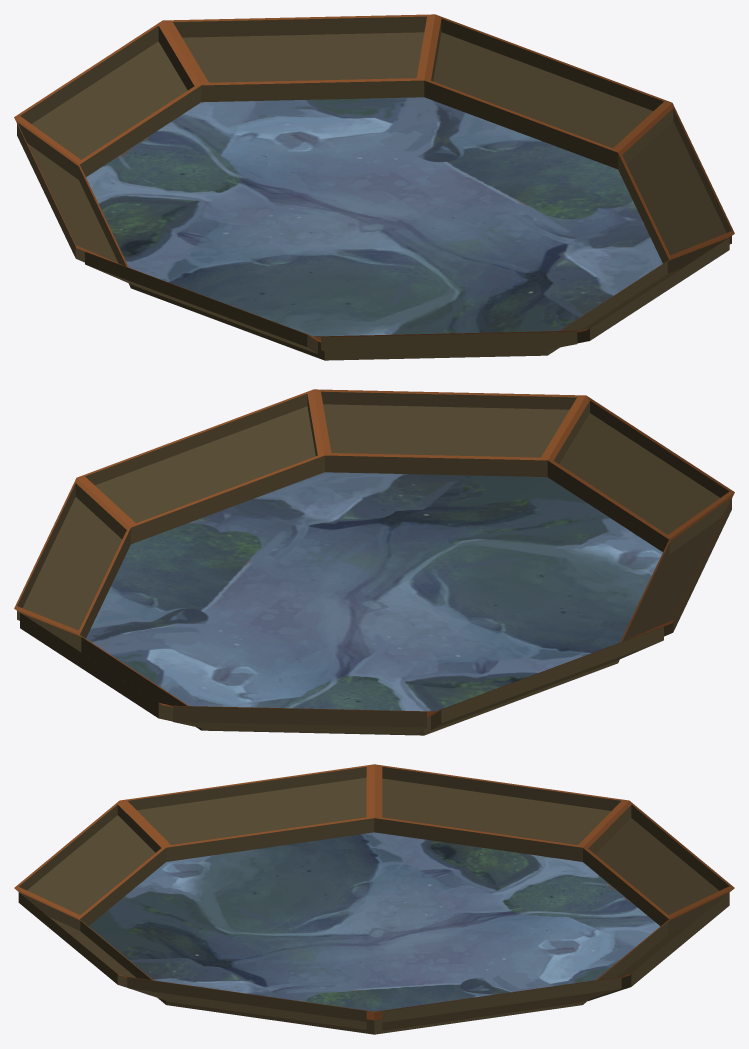
The model's file is Stadium_Ring.fbx.
3 renders of one model, top to bottom at view 1: azimuth 30°, elevation 25°; view 2: azimuth 150°, elevation 25°; view 3: azimuth 270°, elevation 25°, orthographic. The views are drawn at different scales.
Parts seen in each view (by area): view 1: polySurface19; view 2: polySurface19; view 3: polySurface19.
Part boxes in pixels (bbox=[...]): polySurface19: bbox=[14, 14, 734, 360]; polySurface19: bbox=[14, 389, 734, 735]; polySurface19: bbox=[14, 764, 734, 1034].
Size of the model in its own units: 1606 by 138 by 1977.
